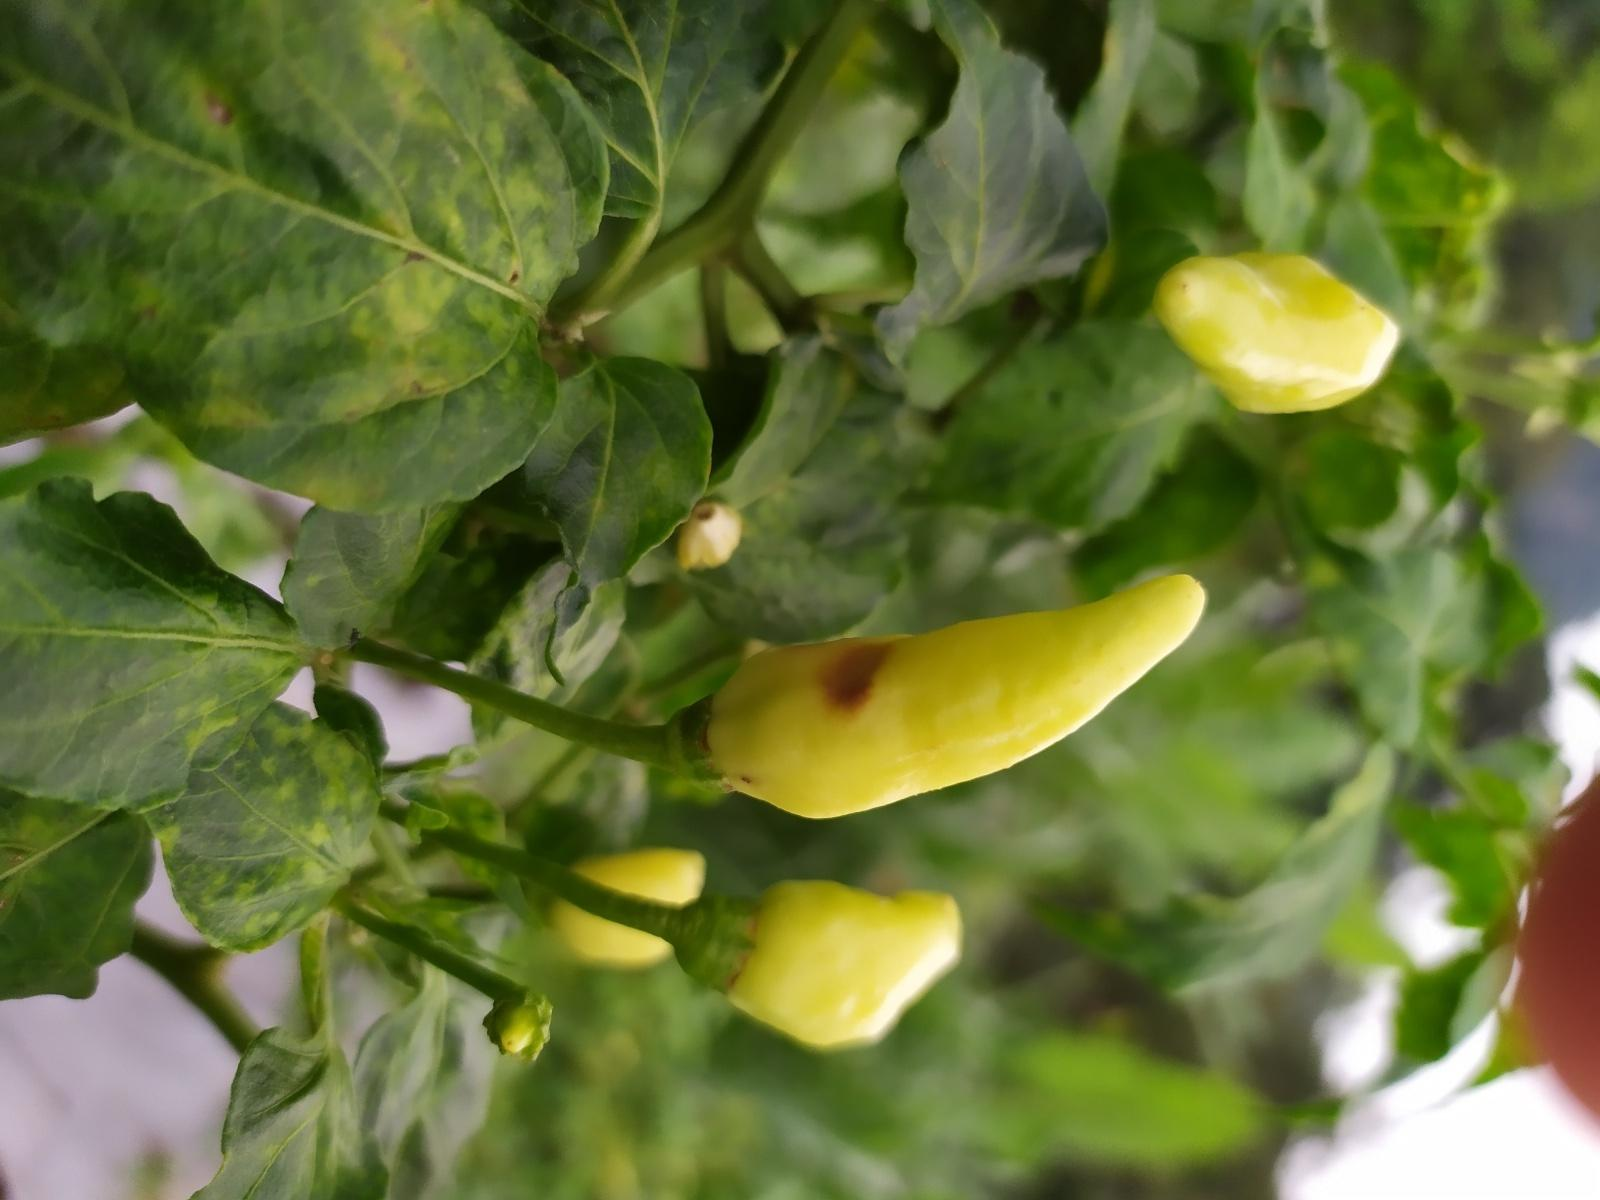antraknosa: (695, 570, 1210, 818)
cabai_normal: (721, 878, 965, 1049), (1153, 250, 1402, 417), (555, 845, 708, 967)
